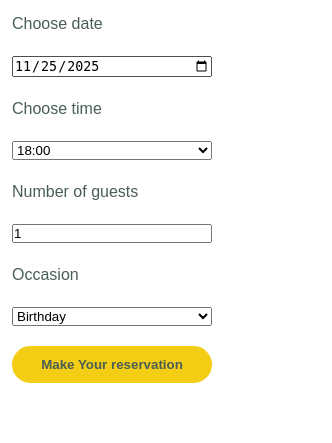
BookingForm › disables submit button if occasion is invalid
Select "InvalidOccasion" in the dropdown named "choose occasion" at [112, 317], box left=12, top=307, right=212, bottom=326
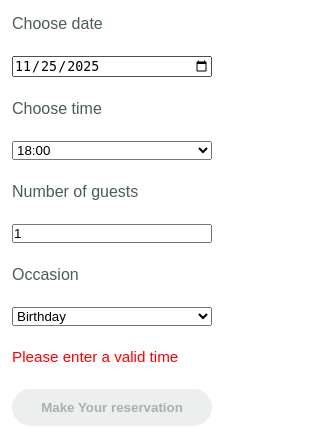
Check: the button with aria-label "submit reservation" is disabled, box left=12, top=389, right=212, bottom=426
